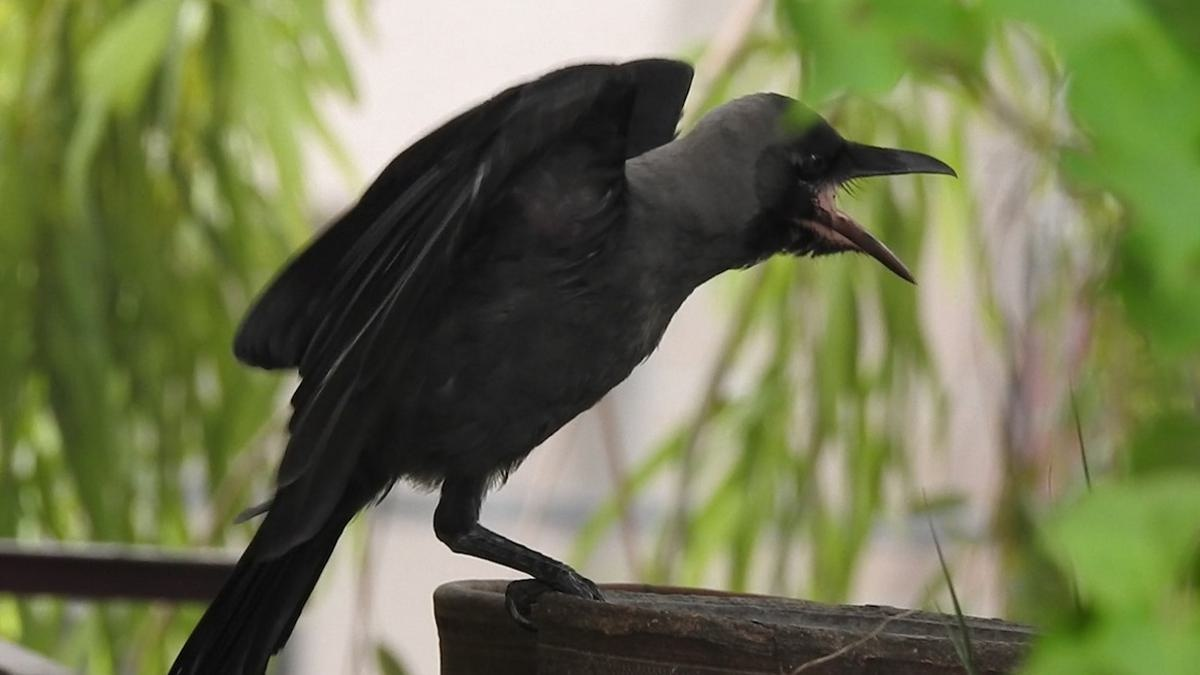crow: (113, 64, 964, 675)
